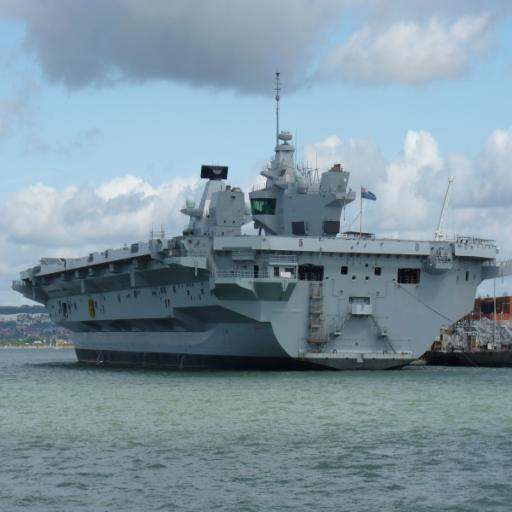Portanaves: (13, 106, 499, 380)
